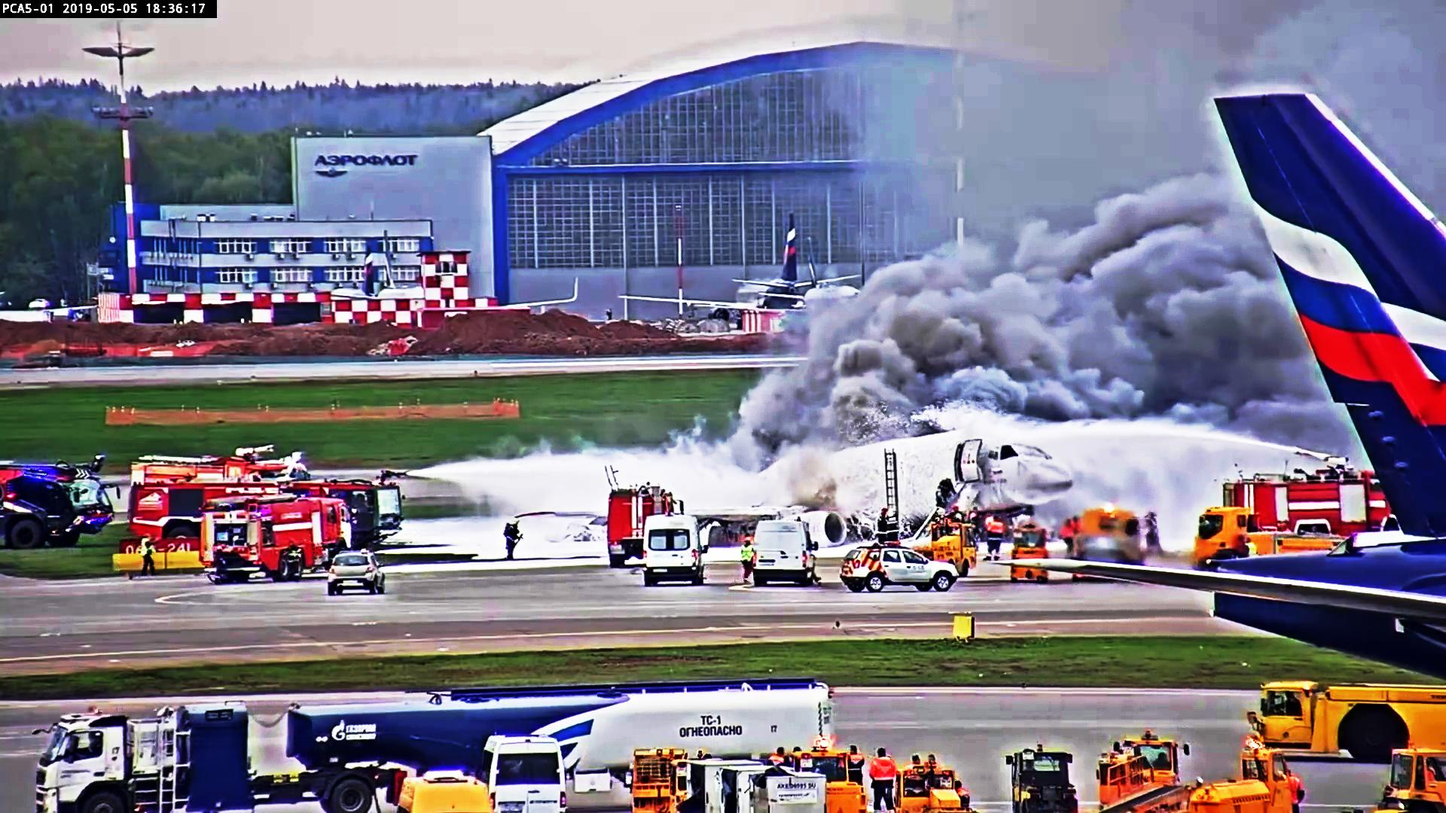smoke: (880, 185, 1237, 417), (900, 0, 1210, 140), (752, 264, 897, 451)
